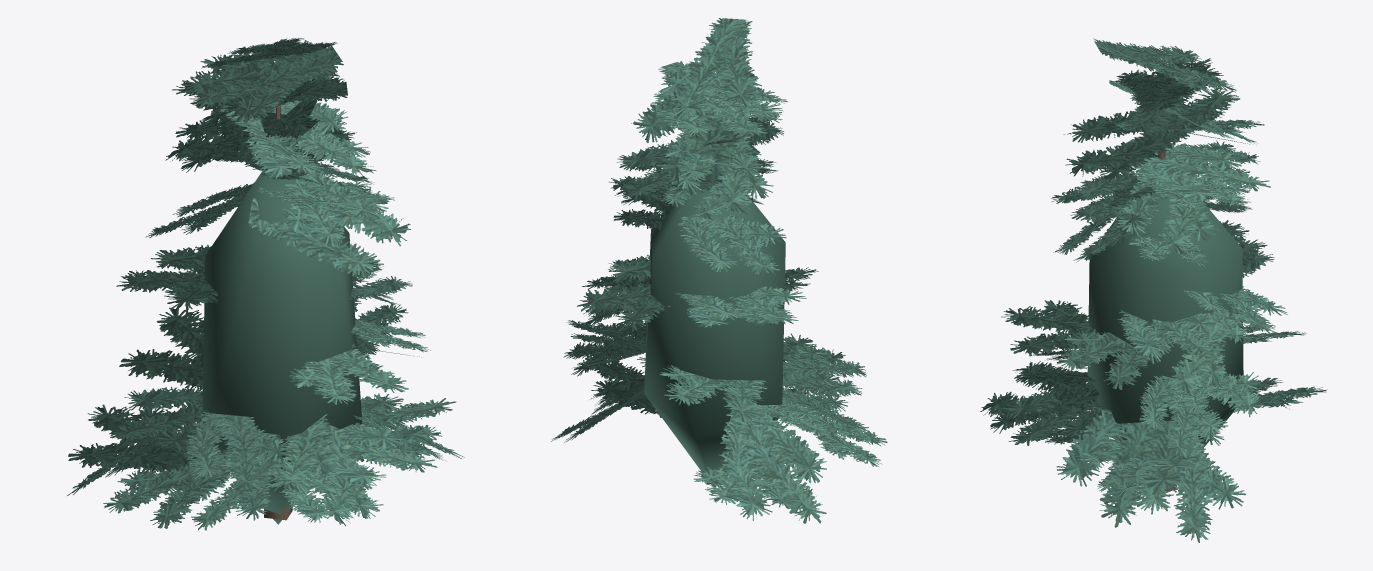
The model's file is CEDRUS_2.glb.
3 renders of one model, left to right at view 1: azimuth 30°, elevation 25°; view 2: azimuth 150°, elevation 25°; view 3: azimuth 270°, elevation 25°, orthographic. The views are drawn at different scales.
Parts seen in each view (by area): view 1: Arv_CEDRUS_lod2; view 2: Arv_CEDRUS_lod2; view 3: Arv_CEDRUS_lod2.
Boxes of the visible parts, x1,y1,x2,y2 form: Arv_CEDRUS_lod2: (67, 38, 464, 530); Arv_CEDRUS_lod2: (551, 18, 887, 523); Arv_CEDRUS_lod2: (980, 38, 1327, 542).
Size of the model in its own units: 8.78 by 10.71 by 8.58.
3 materials, 1 textured.
